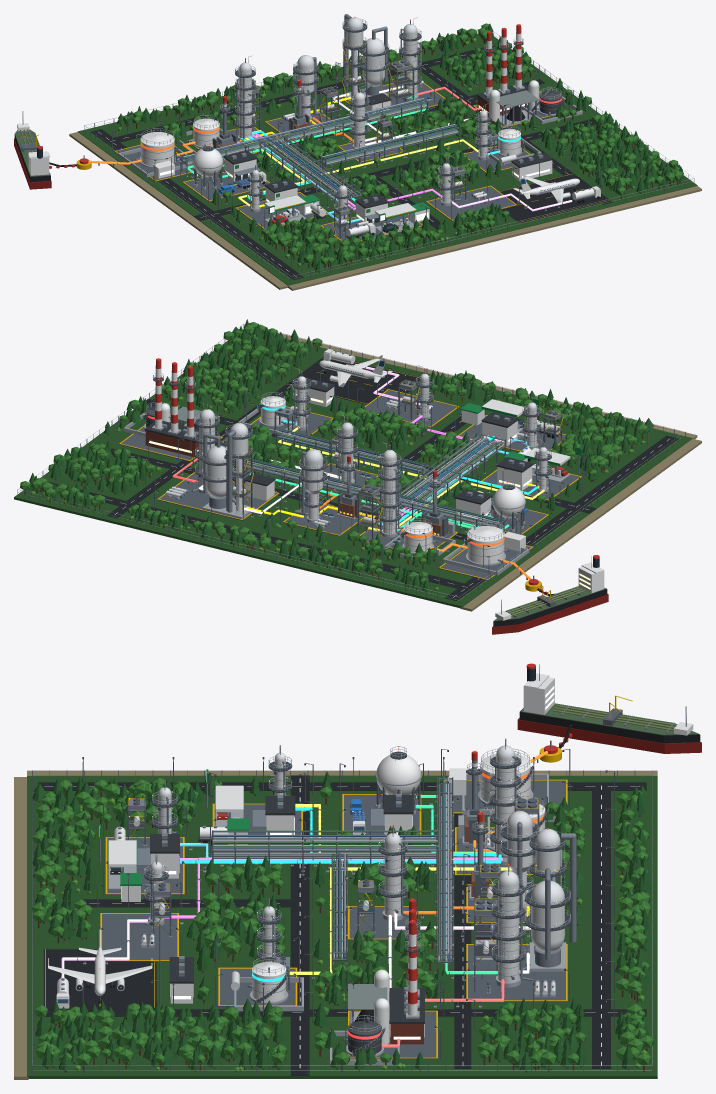
The model's file is repar.glb.
3 renders of one model, top to bottom at view 1: azimuth 30°, elevation 25°; view 2: azimuth 150°, elevation 25°; view 3: azimuth 270°, elevation 25°, orthographic. The views are drawn at different scales.
Parts seen in each view (by area): view 1: Terreno_vias, Vegetacao, Racks_utilidades, Orla, U04_conversor, U11_fabrica, U01_petroleiro, U01_tanque, U02_torre, U08_piso, U04_fracionadora, U04_detalhes (+30 smaller); view 2: Terreno_vias, Vegetacao, Racks_utilidades, U04_conversor, Orla, U01_petroleiro, U11_fabrica, U01_tanque, U02_torre, U03_torre, U08_piso, U04_piso (+31 smaller); view 3: Terreno_vias, Vegetacao, Racks_utilidades, U01_petroleiro, Orla, U04_conversor, U11_fabrica, U08_piso, U04_fracionadora, U04_piso, U02_torre, U10_tanque (+34 smaller).
Part boxes in pixels (left/top/right/bottom): Terreno_vias: left=77, top=29, right=697, bottom=285; Vegetacao: left=117, top=23, right=684, bottom=273; Racks_utilidades: left=181, top=97, right=460, bottom=213; Orla: left=69, top=132, right=701, bottom=290; U04_conversor: left=340, top=14, right=389, bottom=103; U11_fabrica: left=476, top=24, right=539, bottom=120; U01_petroleiro: left=14, top=110, right=51, bottom=189; U01_tanque: left=118, top=127, right=192, bottom=177; U02_torre: left=235, top=55, right=255, bottom=141; U08_piso: left=423, top=165, right=519, bottom=222; U04_fracionadora: left=393, top=17, right=421, bottom=101; U04_detalhes: left=365, top=59, right=432, bottom=114; Terreno_vias: left=14, top=324, right=692, bottom=607; Vegetacao: left=20, top=319, right=653, bottom=592; Racks_utilidades: left=234, top=428, right=505, bottom=532; U04_conversor: left=201, top=422, right=254, bottom=519; Orla: left=278, top=333, right=701, bottom=611; U01_petroleiro: left=492, top=555, right=608, bottom=634; U11_fabrica: left=144, top=358, right=198, bottom=457; U01_tanque: left=442, top=522, right=529, bottom=575; U02_torre: left=373, top=442, right=403, bottom=537; U03_torre: left=294, top=449, right=327, bottom=523; U08_piso: left=357, top=366, right=461, bottom=428; U04_piso: left=154, top=449, right=282, bottom=521; Terreno_vias: left=27, top=757, right=657, bottom=1078; Vegetacao: left=32, top=771, right=653, bottom=1072; Racks_utilidades: left=211, top=773, right=453, bottom=978; U01_petroleiro: left=517, top=663, right=701, bottom=753; Orla: left=14, top=770, right=657, bottom=1079; U04_conversor: left=525, top=828, right=576, bottom=971; U11_fabrica: left=374, top=898, right=424, bottom=1044; U08_piso: left=97, top=882, right=181, bottom=961; U04_fracionadora: left=491, top=864, right=533, bottom=987; U04_piso: left=463, top=913, right=570, bottom=1003; U02_torre: left=486, top=738, right=521, bottom=865; U10_tanque: left=234, top=956, right=303, bottom=1011.
Size of what is drawn, in the model's own units: 154 by 25.75 by 122.
